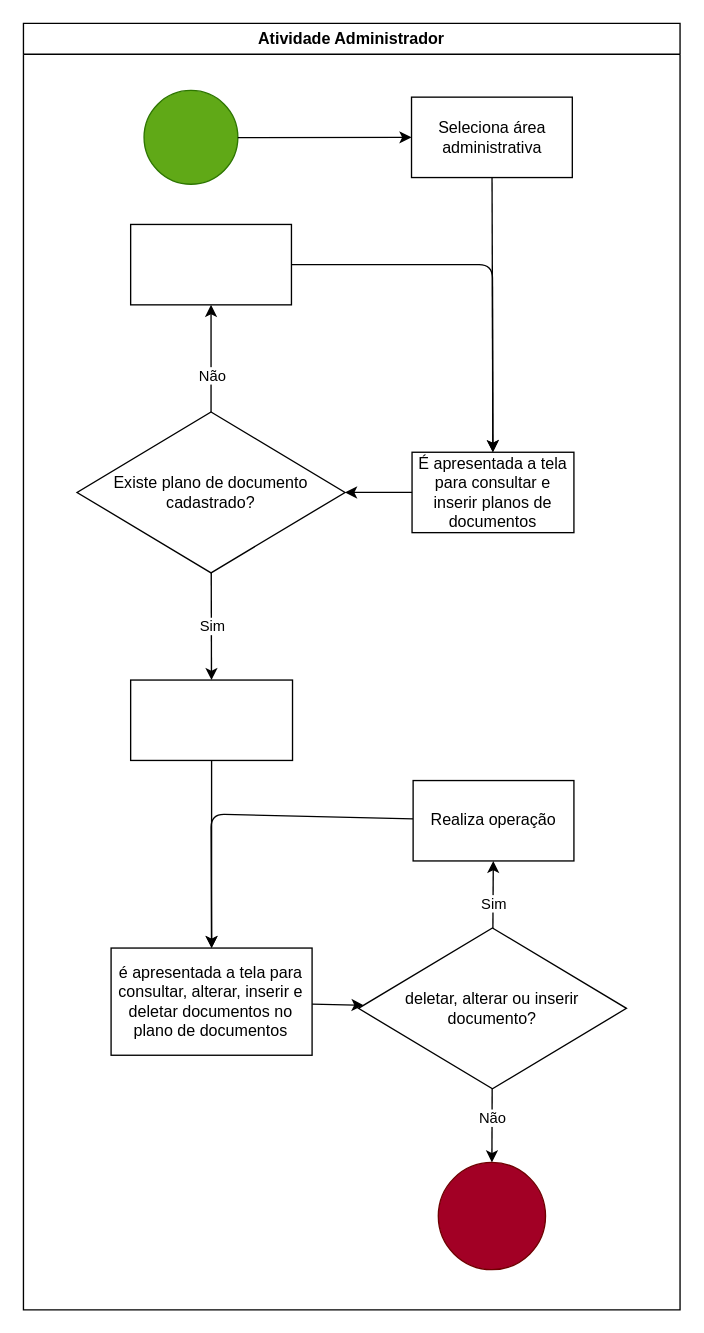
The diagram is 704 pixels wide and 1333 high, and some of its shapes have lost their labels. Here are the shapes that lost their labels. From the top down, the centre of each, then its label:
point 190,136: Acessa a ferramenta
point 210,264: Realiza o cadastro de um plano
point 211,719: Acessa um dos planos cadastrados
point 491,1215: Fim
